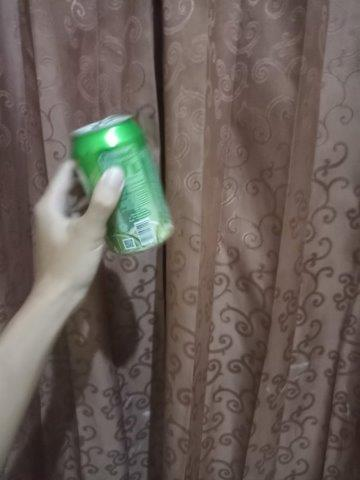kaleng: (72, 115, 175, 255)
